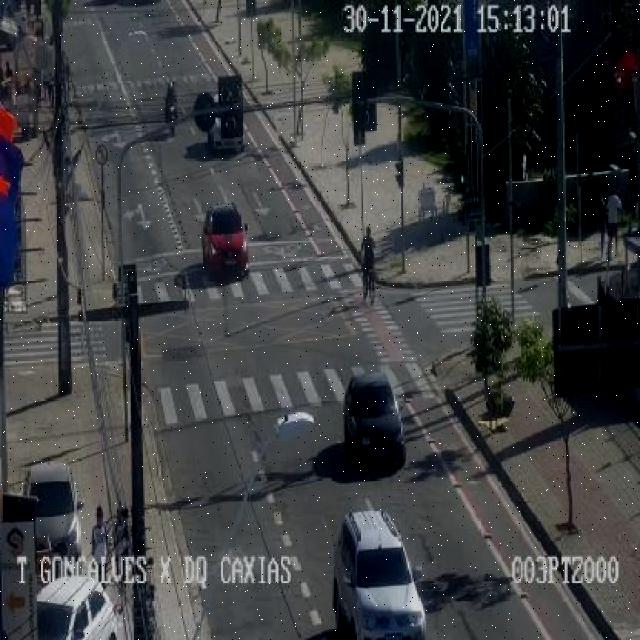bicycle: (358, 224, 376, 304)
car: (332, 508, 426, 640), (24, 462, 81, 572), (344, 371, 404, 464), (35, 574, 117, 640), (200, 203, 248, 274), (208, 93, 243, 150)
motorbike: (92, 506, 110, 592), (112, 506, 130, 592), (606, 188, 622, 257), (164, 77, 178, 136), (596, 192, 606, 256), (47, 70, 55, 107), (34, 66, 40, 106)
